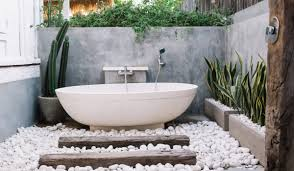bathub: (55, 82, 198, 126)
